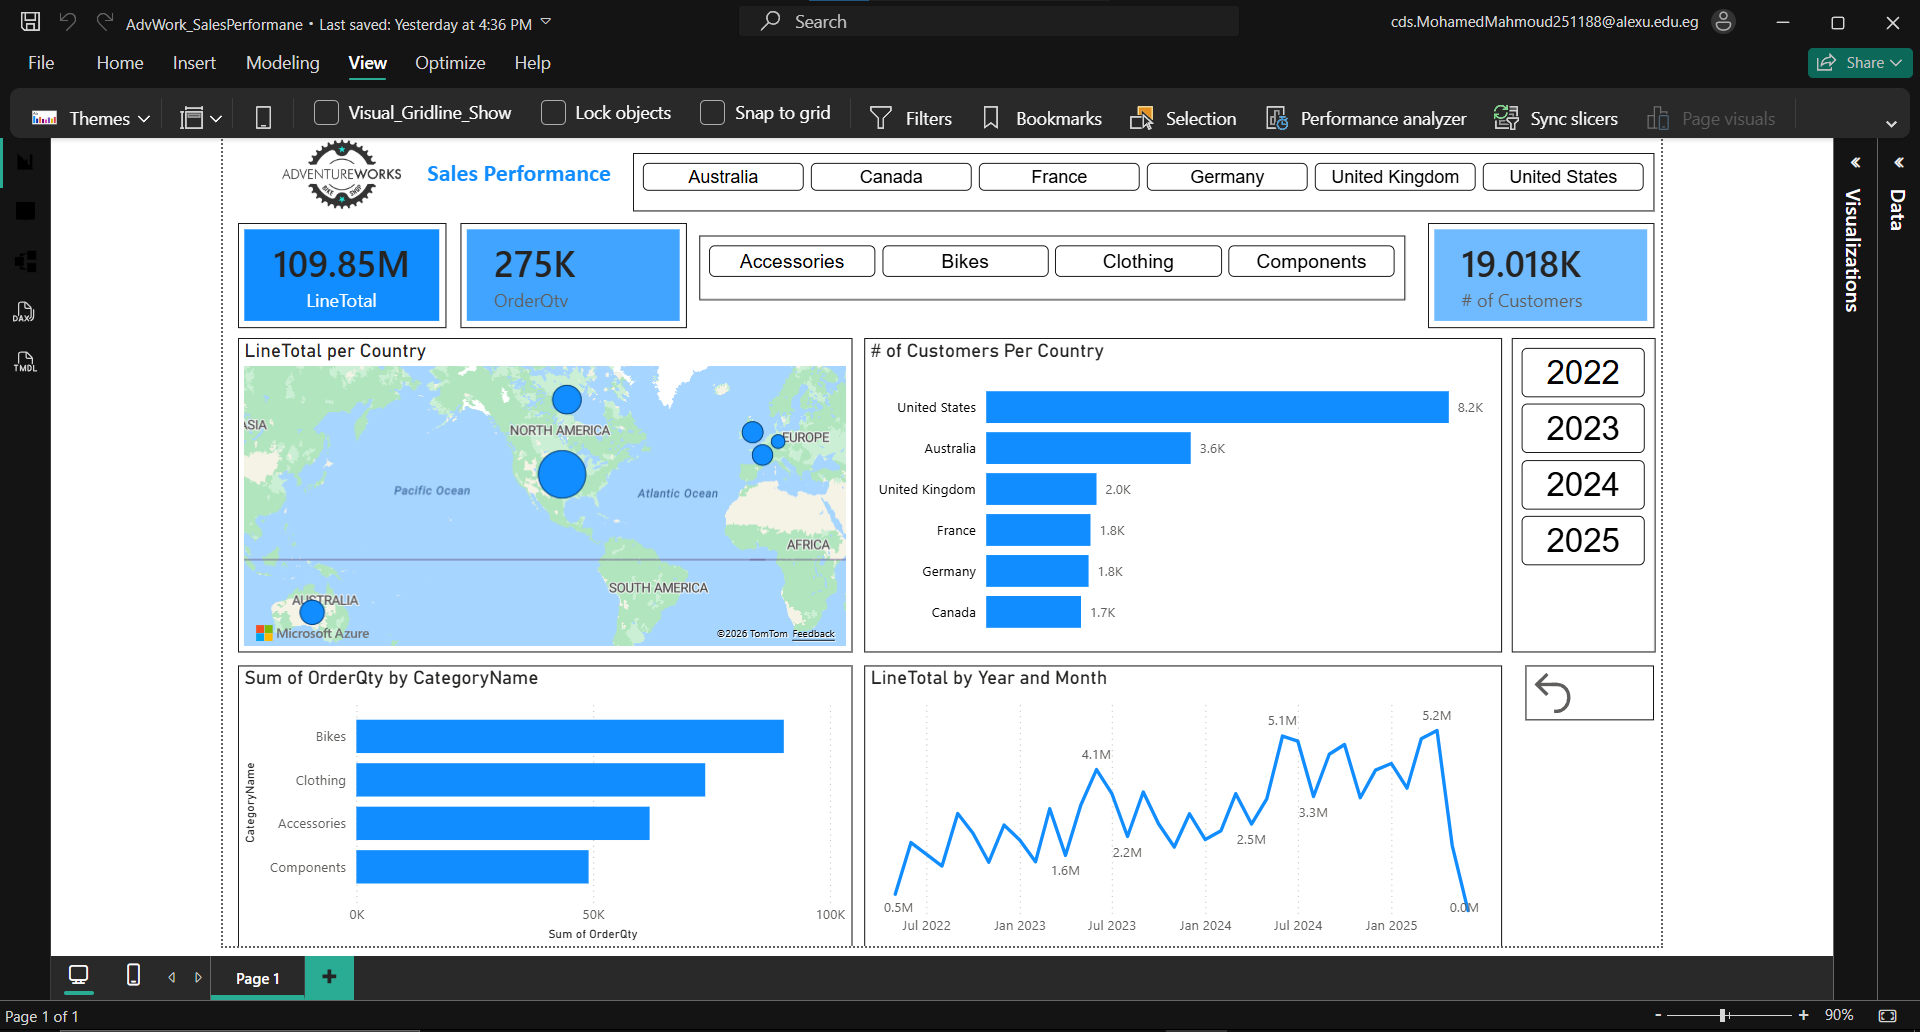

What the dashboard file says about the page in this screenshot:
{"tool":"powerbi","page":{"name":"Page 1","canvas":[1280,720],"ordinal":0},"visuals":[{"type":"azureMap","title":"LineTotal per Country","fields":{"Category":["v_MainSalesDashboard.Country"],"Size":["Sum(v_MainSalesDashboard.LineTotal)"]},"box":[13.7,178.4,547.5,279.9],"z":0},{"type":"clusteredBarChart","fields":{"Category":["v_MainSalesDashboard.CategoryName"],"Y":["Sum(v_MainSalesDashboard.OrderQty)"]},"box":[13.7,469.3,547.5,251.1],"z":1},{"type":"ChicletSlicer1448559807354","fields":{"Category":["v_MainSalesDashboard.Country"]},"box":[365,13.7,909.8,52.1],"z":2},{"type":"lineChart","fields":{"Category":["v_MainSalesDashboard.OrderDate.Variation.Date Hierarchy.Year","v_MainSalesDashboard.OrderDate.Variation.Date Hierarchy.Month"],"Y":["Sum(v_MainSalesDashboard.LineTotal)"]},"box":[570.8,469.3,568.1,251.1],"z":3},{"type":"cardVisual","fields":{"Data":["Sum(v_MainSalesDashboard.LineTotal)"]},"box":[13.7,75.5,185.2,93.3],"z":4},{"type":"cardVisual","fields":{"Data":["Sum(v_MainSalesDashboard.OrderQty)"]},"box":[211.3,75.5,201.7,93.3],"z":5},{"type":"ChicletSlicer1448559807354","fields":{"Category":["v_MainSalesDashboard.CategoryName"]},"box":[424,86.4,628.5,57.6],"z":6},{"type":"cardVisual","fields":{"Data":["Count(v_MainSalesDashboard.CustomerName)"]},"box":[1073.1,75.5,201.7,93.3],"z":7},{"type":"clusteredBarChart","title":"# of Customers Per Country","fields":{"Y":["Count(v_MainSalesDashboard.CustomerName)"],"Category":["v_MainSalesDashboard.Country"]},"box":[570.8,178.4,568.1,279.9],"z":8},{"type":"textbox","box":[176.7,13.5,179.1,51.5],"z":9},{"type":"ChicletSlicer1448559807354","fields":{"Category":["v_MainSalesDashboard.OrderDate.Variation.Date Hierarchy.Year"]},"box":[1147.2,178.4,127.6,279.9],"z":10},{"type":"actionButton","box":[1159.5,469.9,114.1,49.1],"z":11},{"type":"image","box":[13.5,0,185.3,65],"z":12}]}

Visuals, with their boxes on the page's 1280x720 design canvas (x1, y1, x2, y2). These are canvas units, not pixel positions in the 1920x1032 screenshot, which may show the page scaled, cropped or inside an application window:
"LineTotal per Country" azureMap: select_region(14, 178, 561, 458)
clusteredBarChart - v_MainSalesDashboard.CategoryName x Sum(v_MainSalesDashboard.OrderQty): select_region(14, 469, 561, 720)
ChicletSlicer1448559807354 - v_MainSalesDashboard.Country: select_region(365, 14, 1275, 66)
lineChart - v_MainSalesDashboard.OrderDate.Variation.Date Hierarchy.Year x v_MainSalesDashboard.OrderDate.Variation.Date Hierarchy.Month: select_region(571, 469, 1139, 720)
cardVisual - Sum(v_MainSalesDashboard.LineTotal): select_region(14, 76, 199, 169)
cardVisual - Sum(v_MainSalesDashboard.OrderQty): select_region(211, 76, 413, 169)
ChicletSlicer1448559807354 - v_MainSalesDashboard.CategoryName: select_region(424, 86, 1052, 144)
cardVisual - Count(v_MainSalesDashboard.CustomerName): select_region(1073, 76, 1275, 169)
"# of Customers Per Country" clusteredBarChart: select_region(571, 178, 1139, 458)
textbox: select_region(177, 14, 356, 65)
ChicletSlicer1448559807354 - v_MainSalesDashboard.OrderDate.Variation.Date Hierarchy.Year: select_region(1147, 178, 1275, 458)
actionButton: select_region(1160, 470, 1274, 519)
image: select_region(14, 0, 199, 65)
